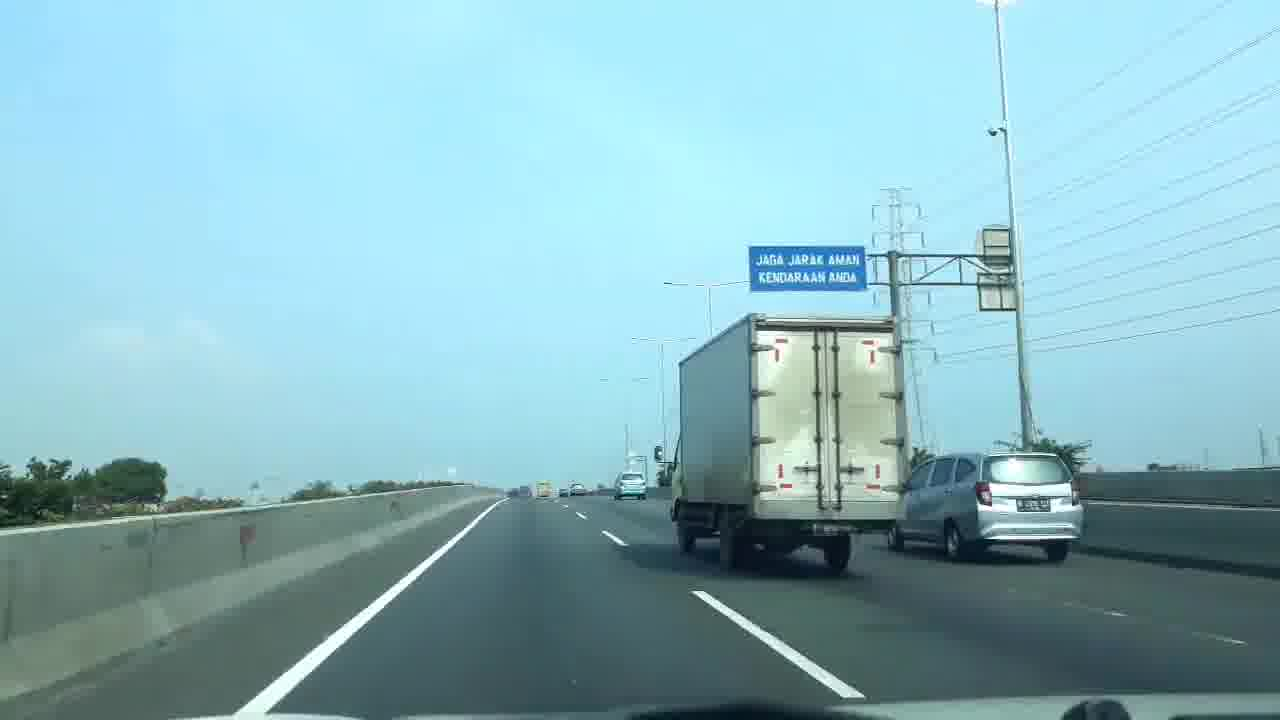plate_positive: (806, 521, 856, 536), (1016, 498, 1051, 512)
